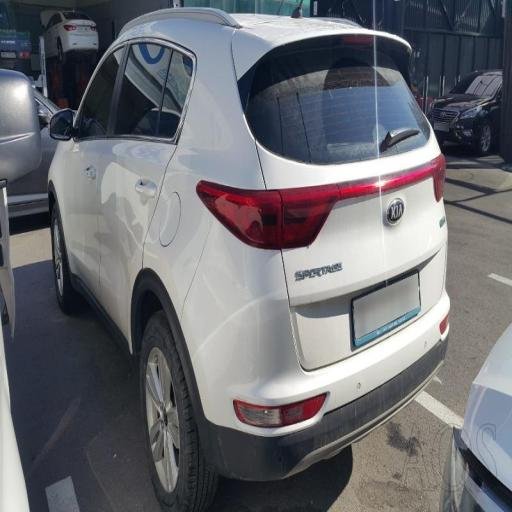scratch: (82, 131, 204, 292), (182, 238, 286, 418)
